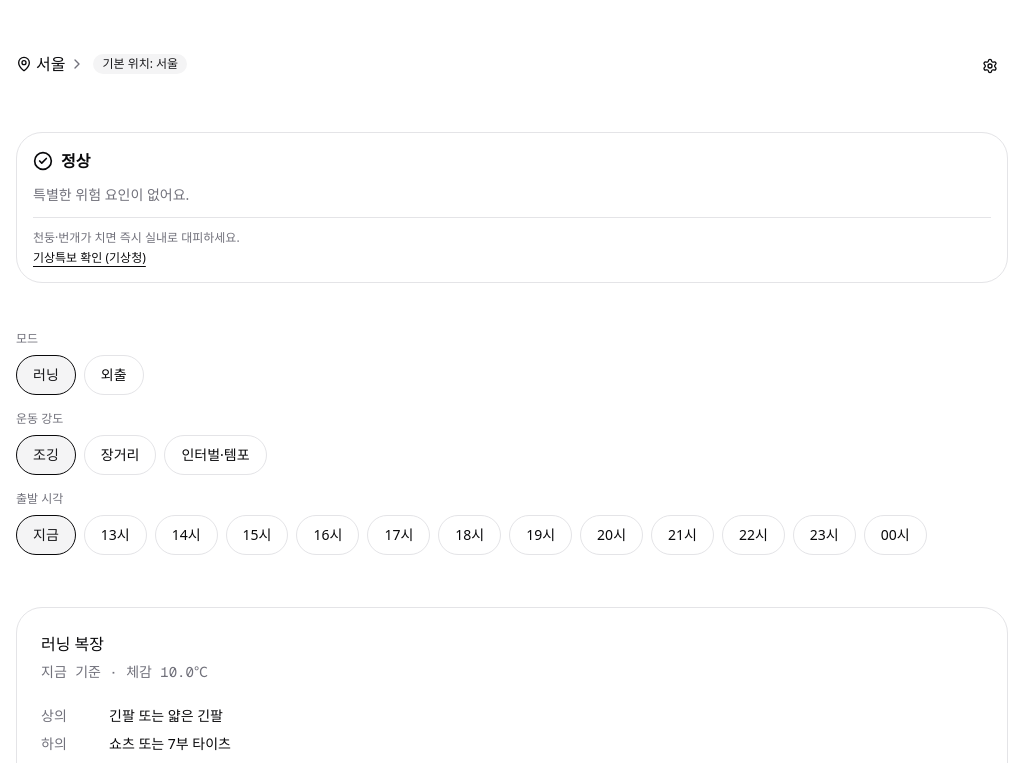
Test: HomeScreen: 칩 변경은 재조회 없이 다시 계산한다 › 출발 시각 칩은 지금 + 12시간이며, 바꾸면 그 시각의 예보로 추천한다
Expected: the text "러닝 복장" is shown, [41,633,104,655]
Expected: the text "지금 기준 · 체감 10.0℃" is shown, [41,663,208,681]
Click the button "15시": (257, 535) [226,515,288,555]
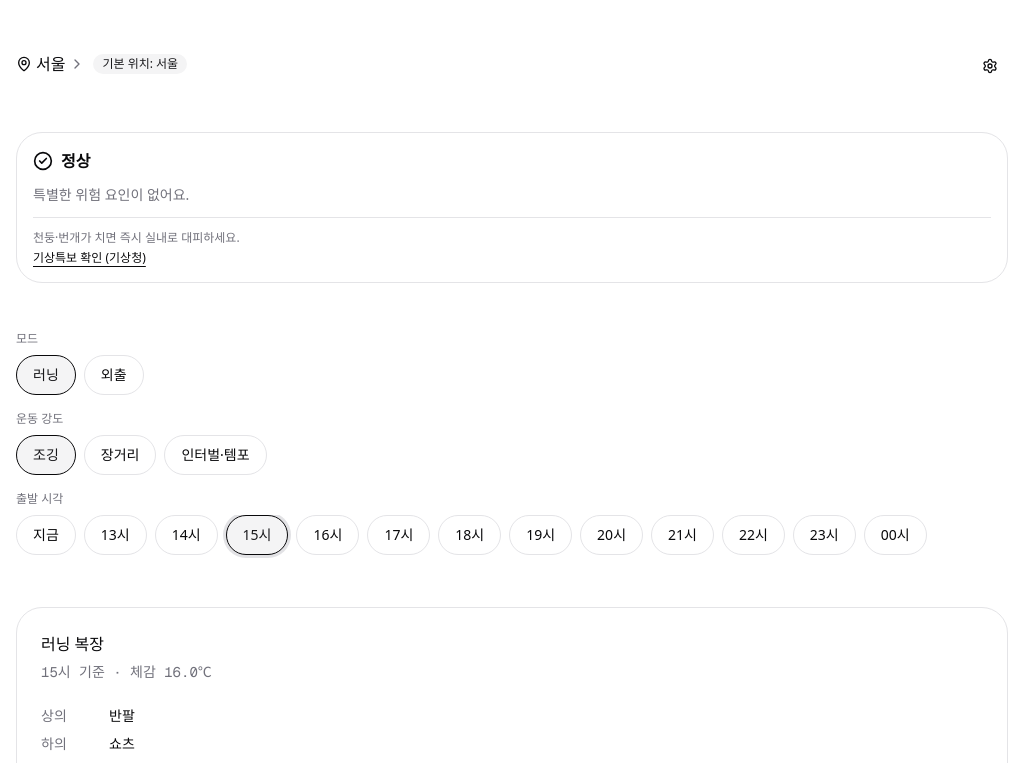
Now the text "15시 기준 · 체감 16.0℃" is shown, box [41,663,212,681]
Now the text "반팔" is shown, box [109,706,135,726]
